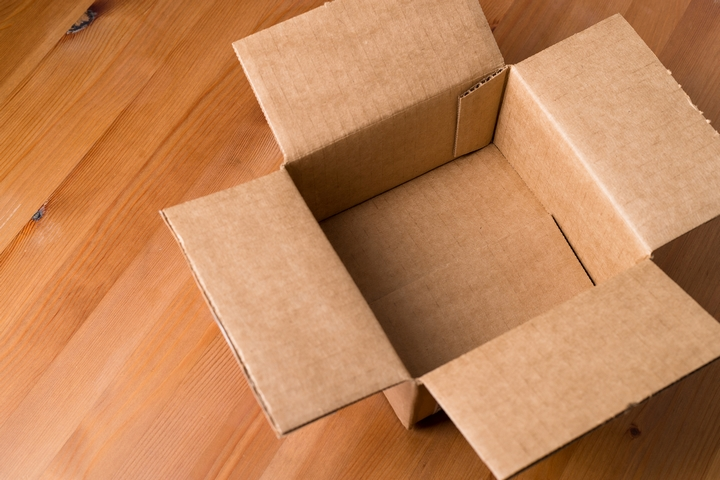Rec_Paper: (142, 5, 714, 475)
